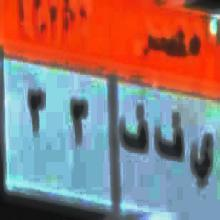3: (68, 88, 93, 156), (27, 75, 47, 151)
faa: (154, 103, 184, 179), (118, 99, 149, 166)
yaa: (190, 125, 215, 196)
